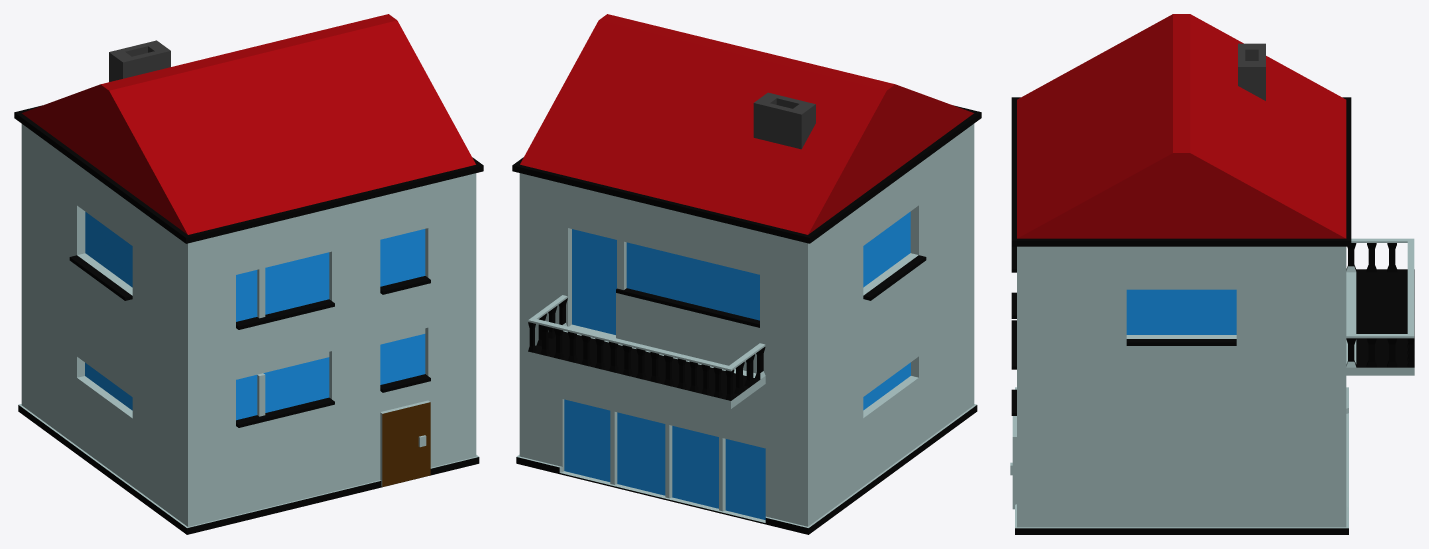
The model's file is Building-H2.fbx.
3 renders of one model, left to right at view 1: azimuth 30°, elevation 25°; view 2: azimuth 150°, elevation 25°; view 3: azimuth 270°, elevation 25°, orthographic.
Visible parts, largest first — view 1: Cube; view 2: Cube; view 3: Cube.
Boxes of the visible parts, <box> form: Cube: <box>14,14,483,534</box>; Cube: <box>512,14,981,534</box>; Cube: <box>1010,14,1414,534</box>.
Bounding box in the file's own units: 144 × 175 × 168.
